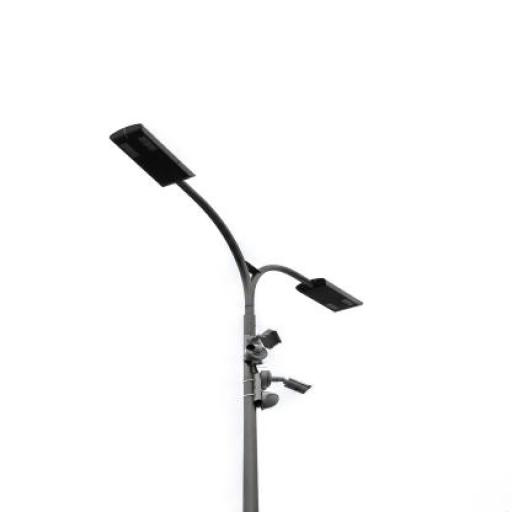street light: (107, 123, 366, 511)
